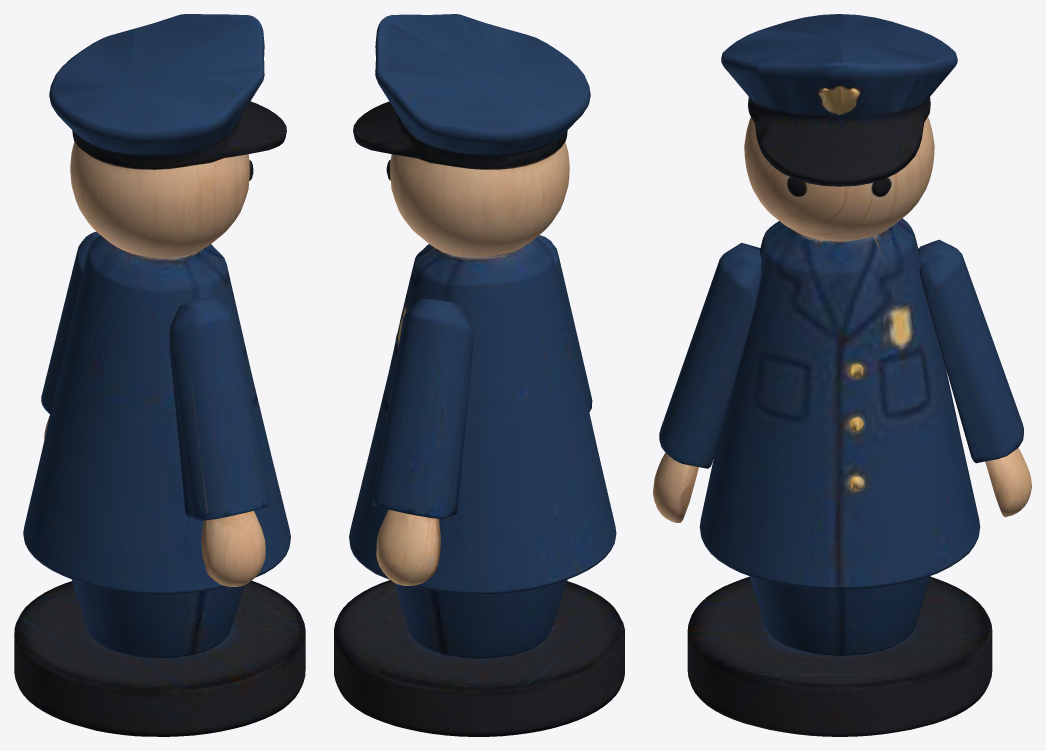
File: person_inspector.glb
3 renders of one model, left to right at view 1: azimuth 30°, elevation 25°; view 2: azimuth 150°, elevation 25°; view 3: azimuth 270°, elevation 25°, orthographic. The views are drawn at different scales.
Visible parts, largest first — view 1: tripo_node_dd3ba60e-6a4d-458e-b2ed-ed07659fc602; view 2: tripo_node_dd3ba60e-6a4d-458e-b2ed-ed07659fc602; view 3: tripo_node_dd3ba60e-6a4d-458e-b2ed-ed07659fc602.
Part boxes in pixels (box(x1,y1,x2,y2)): tripo_node_dd3ba60e-6a4d-458e-b2ed-ed07659fc602: box(14, 14, 305, 736); tripo_node_dd3ba60e-6a4d-458e-b2ed-ed07659fc602: box(334, 14, 624, 736); tripo_node_dd3ba60e-6a4d-458e-b2ed-ed07659fc602: box(653, 14, 1031, 736).
Size of the model in its own units: 0.4136 by 0.9995 by 0.519.
Materials: 1 (1 with a texture image).
